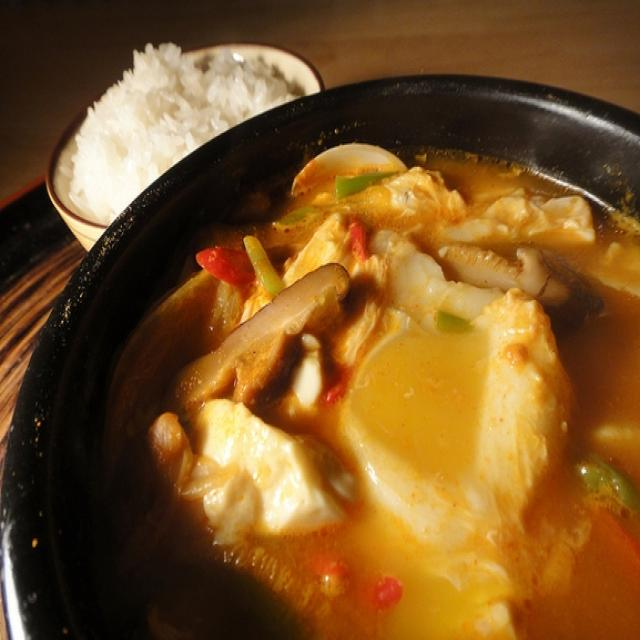汤锅炖物: (10, 50, 633, 608)
